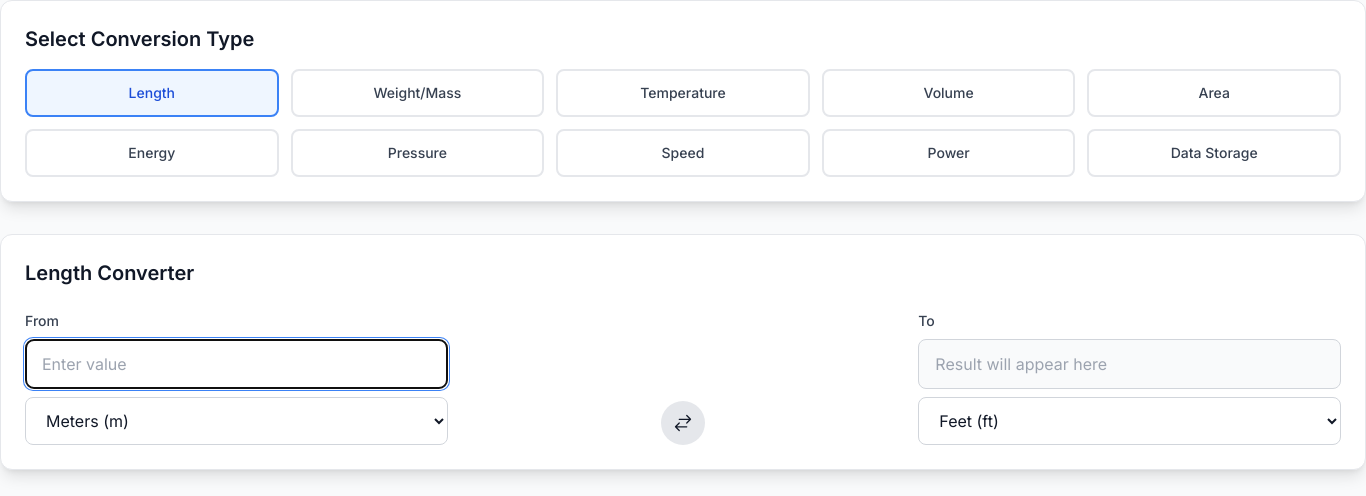
Test: UnitConverter Component › swaps units when swap button is clicked
expect the dropdown below "From" shows "Meters (m)": met, box left=25, top=397, right=448, bottom=445
expect the dropdown below "Result will appear here" shows "Feet (ft)": met, box left=918, top=397, right=1341, bottom=445
Click swap button
What coordinates should you click on to do the following:
click the button titled "Swap units"
I would click on:
 (683, 423)
Its box is left=661, top=401, right=705, bottom=445.
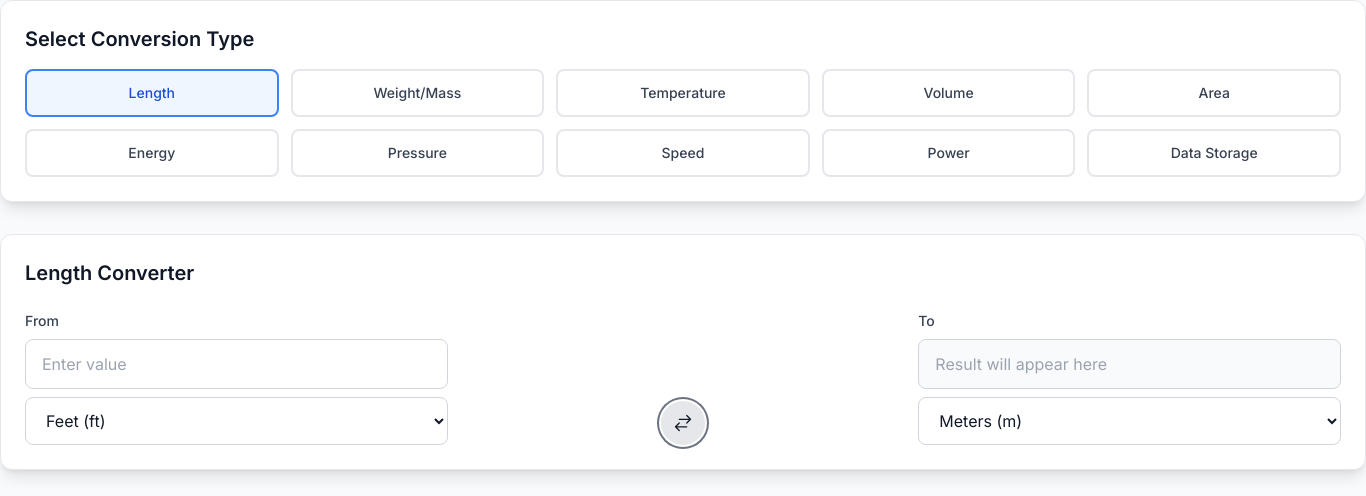
expect the dropdown below "From" shows "Feet (ft)": met, box left=25, top=397, right=448, bottom=445
expect the dropdown below "Result will appear here" shows "Meters (m)": met, box left=918, top=397, right=1341, bottom=445
